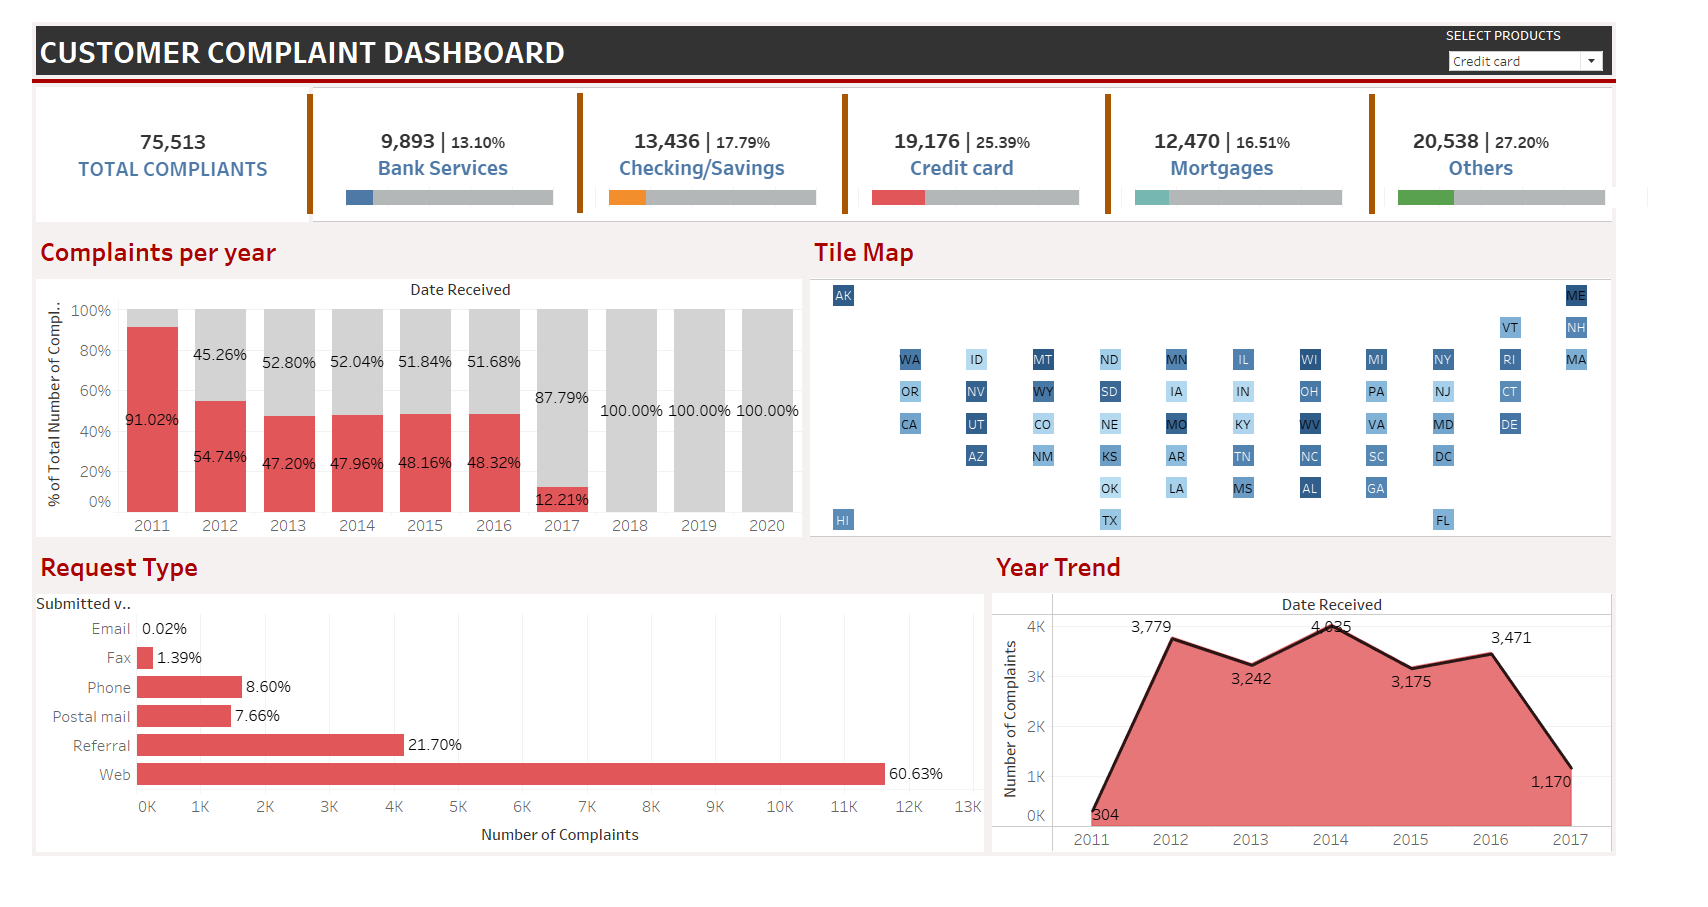

The page's visual inventory and layout, read from the dashboard file:
{"tool":"tableau","page":{"name":"Dashboard 1","canvas":[1600,850],"ordinal":0},"visuals":[{"type":"title","box":[8,8,1584,57]},{"type":"parameter","param":"[Parameters].[Parameter 1]","box":[1422,12,160,48]},{"type":"blank","box":[8,65,1584,4]},{"type":"worksheet","title":"Total KPI","mark":"Automatic","box":[8,69,280.9,143]},{"type":"worksheet","title":"KPI","mark":"Automatic","box":[288.9,69,1303.1,143]},{"type":"blank","box":[553,79,6,120]},{"type":"blank","box":[283,80,6,120]},{"type":"blank","box":[818,80,6,120]},{"type":"blank","box":[1081,80,6,120]},{"type":"blank","box":[1345,80,6,120]},{"type":"worksheet","title":"Complaints per year","mark":"Bar","cols":["Date Received"],"box":[8,212,774,315]},{"type":"worksheet","title":"Tile Map","mark":"Square","rows":["Row"],"cols":["Space"],"box":[782,212,809.9,315]},{"type":"worksheet","title":"Request Type","mark":"Automatic","rows":["Submitted via"],"cols":["Number of Complaints"],"box":[8,527,956,315]},{"type":"worksheet","title":"Year Trend","mark":"Area","rows":["Number of Complaints","Number of Complaints"],"cols":["Date Received"],"box":[964,527,628,315]}]}

Visuals, with their boxes in screenshot pixels (x1, y1, x2, y2), scaled from the page's 1600x850 canvas onto the 1708x907 screenshot:
title: 9 9 1699 69
parameter: 1518 13 1689 64
blank: 9 69 1699 74
"Total KPI" worksheet: 9 74 308 226
"KPI" worksheet: 308 74 1699 226
blank: 590 84 597 212
blank: 302 85 309 213
blank: 873 85 880 213
blank: 1154 85 1160 213
blank: 1436 85 1442 213
"Complaints per year" worksheet (Bar marks): 9 226 835 562
"Tile Map" worksheet (Square marks): 835 226 1699 562
"Request Type" worksheet: 9 562 1029 898
"Year Trend" worksheet (Area marks): 1029 562 1699 898
